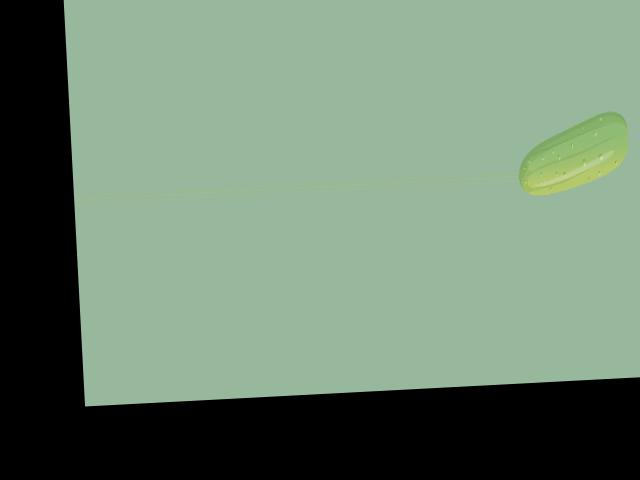cucumber: (515, 110, 631, 196)
